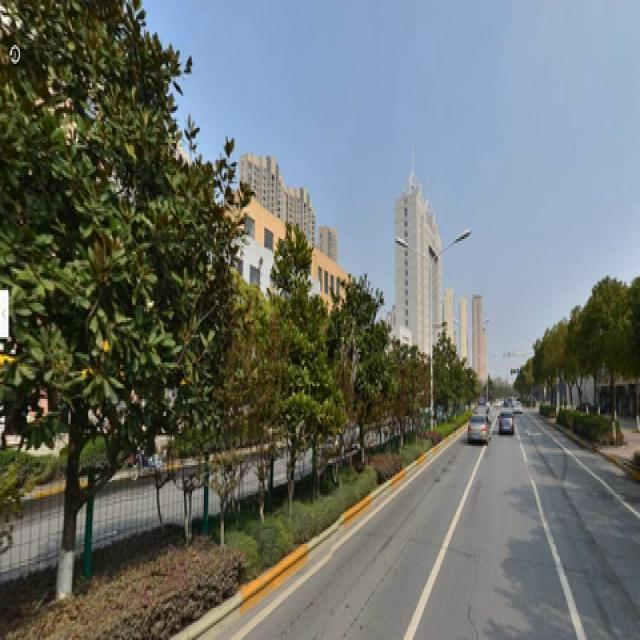magn: (9, 4, 180, 570)
